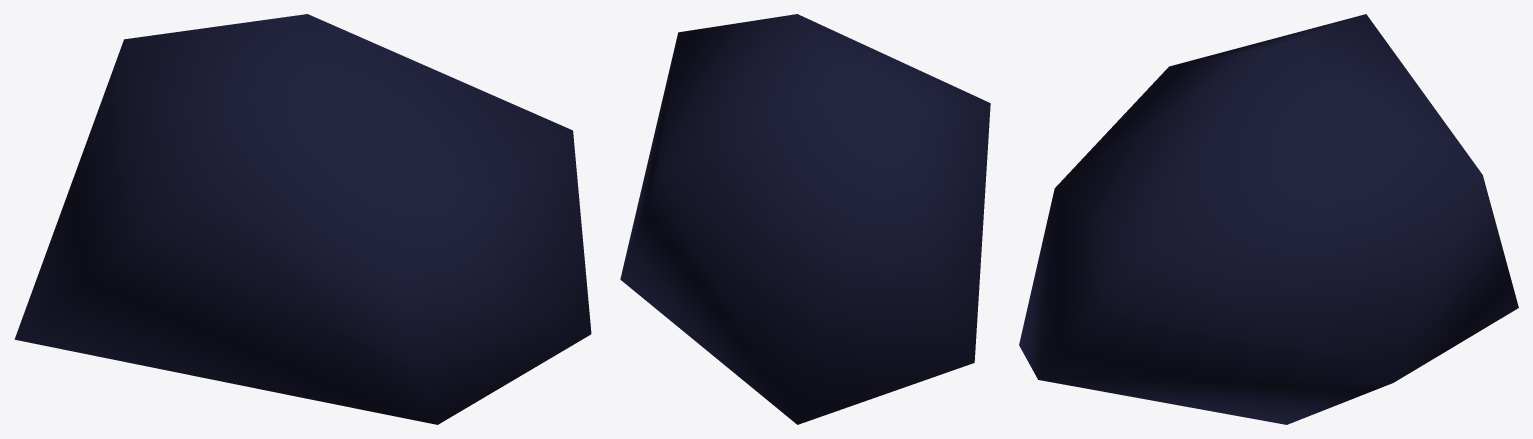
Rendered from Piedrilla.fbx.
3 renders of one model, left to right at view 1: azimuth 30°, elevation 25°; view 2: azimuth 150°, elevation 25°; view 3: azimuth 270°, elevation 25°, orthographic. The views are drawn at different scales.
Visible parts, largest first — view 1: Icosphere.013; view 2: Icosphere.013; view 3: Icosphere.013.
Boxes of the visible parts, box(x1,y1,x2,y2) form: Icosphere.013: box(14, 14, 591, 424); Icosphere.013: box(620, 14, 990, 424); Icosphere.013: box(1019, 14, 1518, 424).
Bounding box in the file's own units: 43.23 × 36.31 × 44.04.
